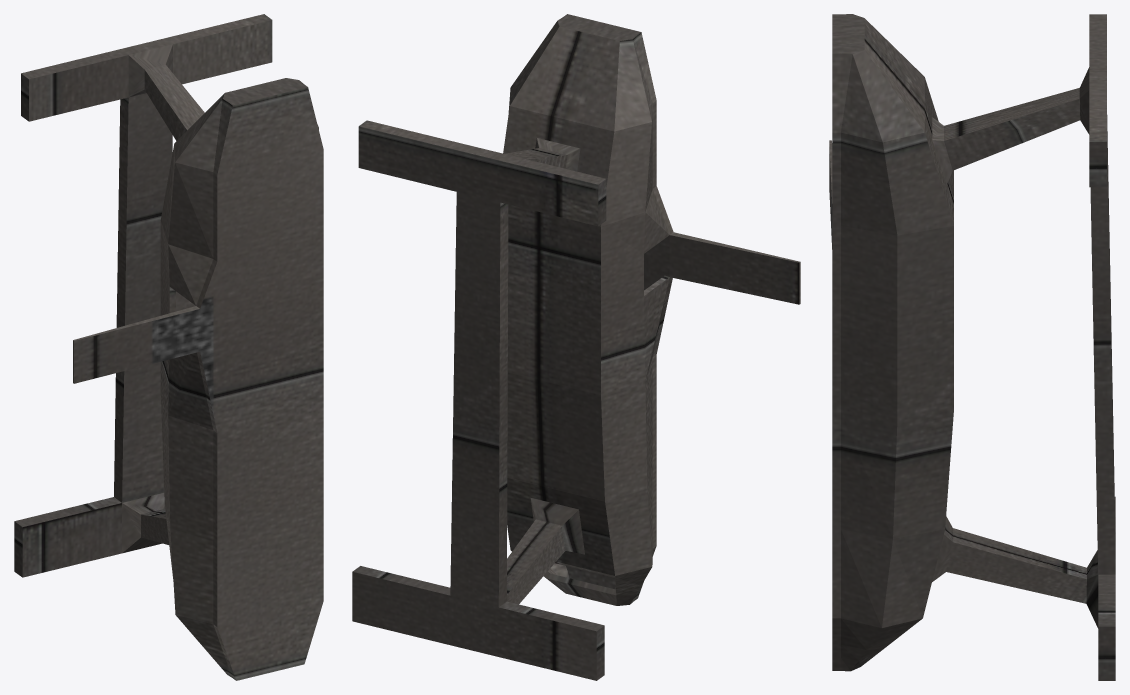
File: gondola.dae
3 renders of one model, left to right at view 1: azimuth 30°, elevation 25°; view 2: azimuth 150°, elevation 25°; view 3: azimuth 270°, elevation 25°, orthographic. The views are drawn at different scales.
Visible parts, largest first — view 1: Cube.002; view 2: Cube.002; view 3: Cube.002.
Boxes of the visible parts, <box> form: Cube.002: <box>14,14,323,680</box>; Cube.002: <box>352,14,800,680</box>; Cube.002: <box>829,14,1115,680</box>.
Bounding box in the file's own units: 22.65 × 16.25 × 38.73.
